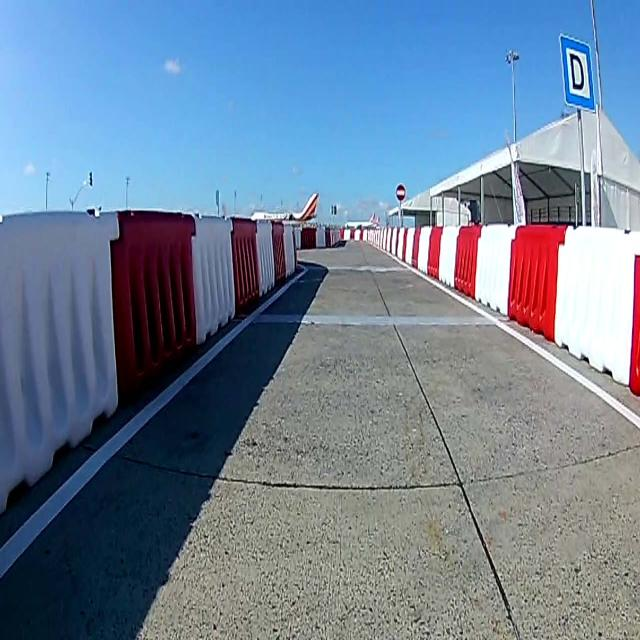durak: (559, 35, 595, 113)
girisyok: (396, 183, 406, 202)
